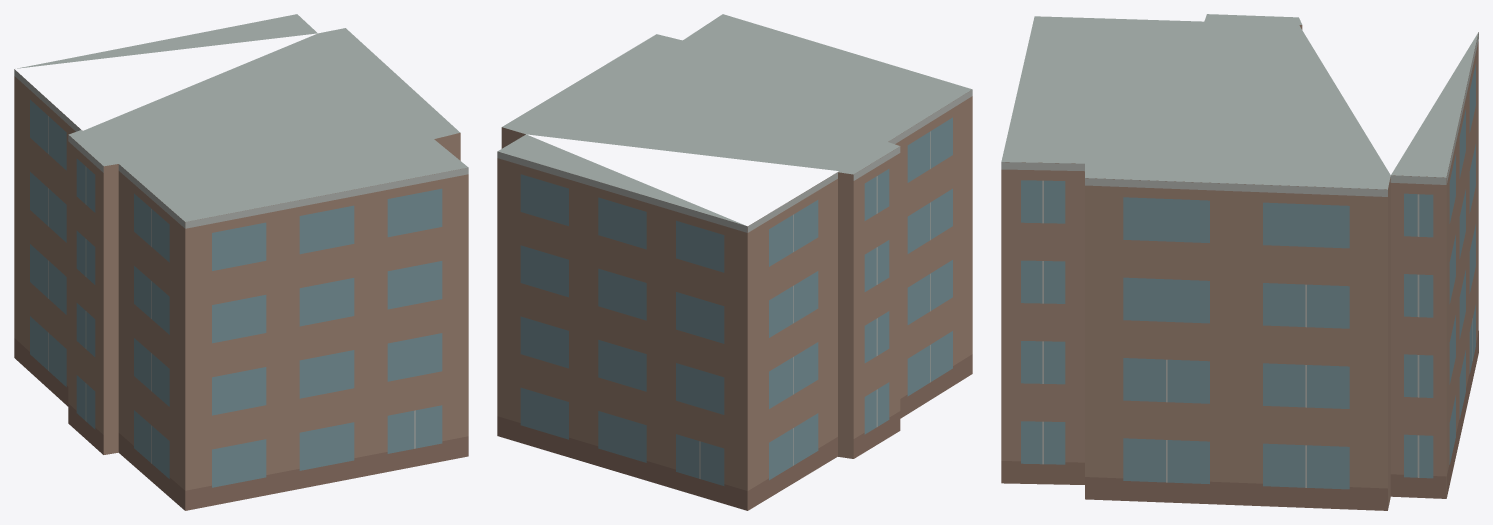
Rendered from survey-upis-33047411.glb.
3 renders of one model, left to right at view 1: azimuth 30°, elevation 25°; view 2: azimuth 150°, elevation 25°; view 3: azimuth 270°, elevation 25°, orthographic. The views are drawn at different scales.
Visible parts, largest first — view 1: survey-upis-33047411.tmp; view 2: survey-upis-33047411.tmp; view 3: survey-upis-33047411.tmp.
Part boxes in pixels (bbox=[...]): survey-upis-33047411.tmp: bbox=[14, 14, 468, 510]; survey-upis-33047411.tmp: bbox=[497, 14, 972, 510]; survey-upis-33047411.tmp: bbox=[1001, 14, 1478, 510].
Bounding box in the file's own units: 12.19 × 10.4 × 14.01.
